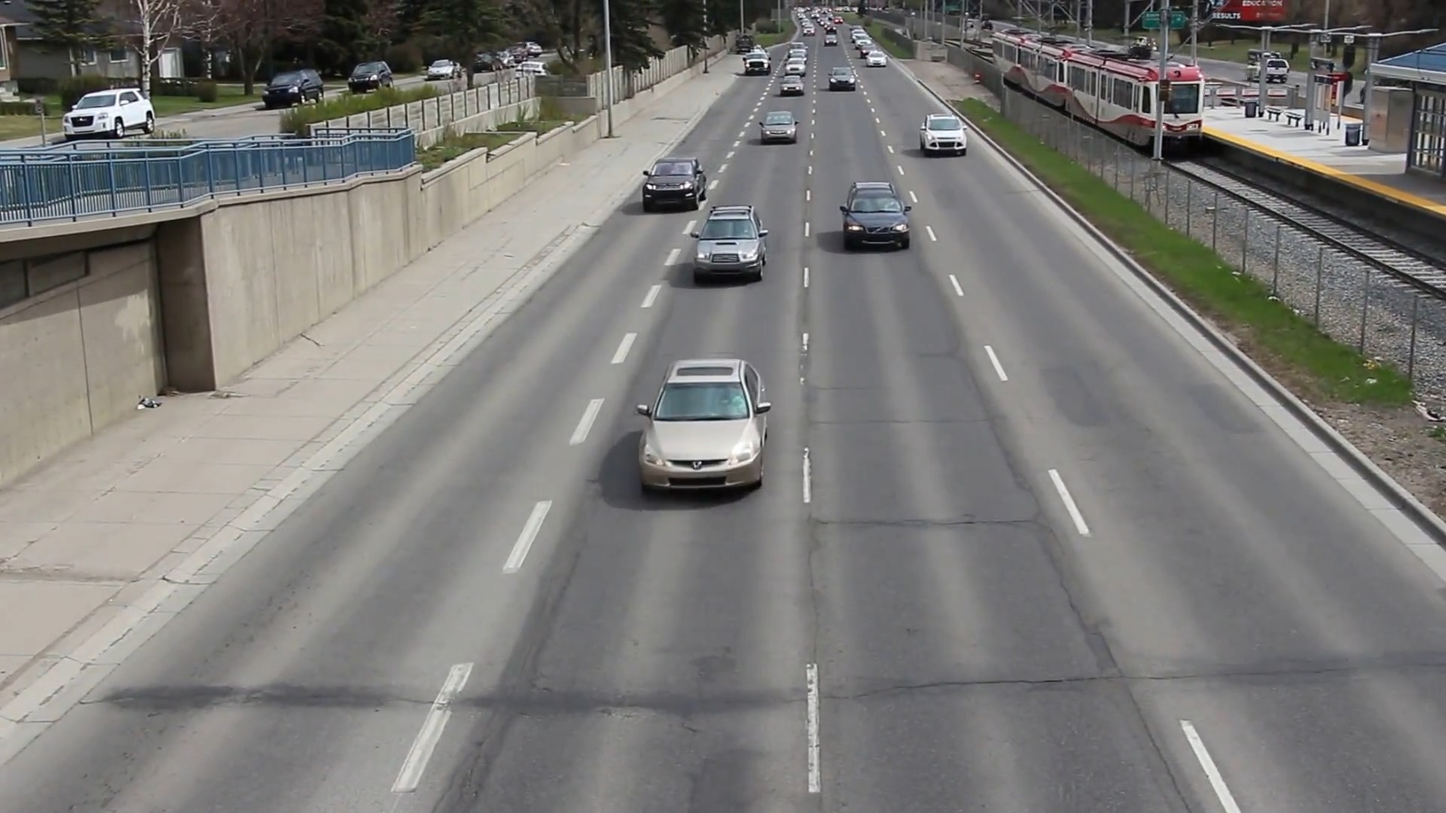car: (637, 356, 769, 506), (691, 207, 766, 277), (838, 185, 911, 255), (637, 158, 704, 212), (915, 113, 972, 154)
